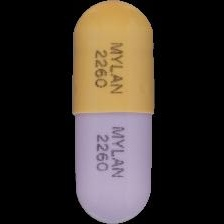55154-5470: (0, 0, 224, 224)
